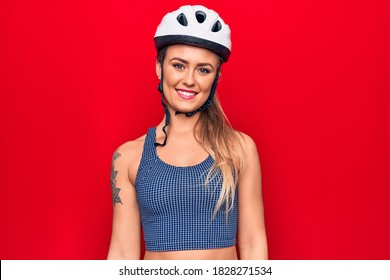helmet: (153, 4, 232, 117)
